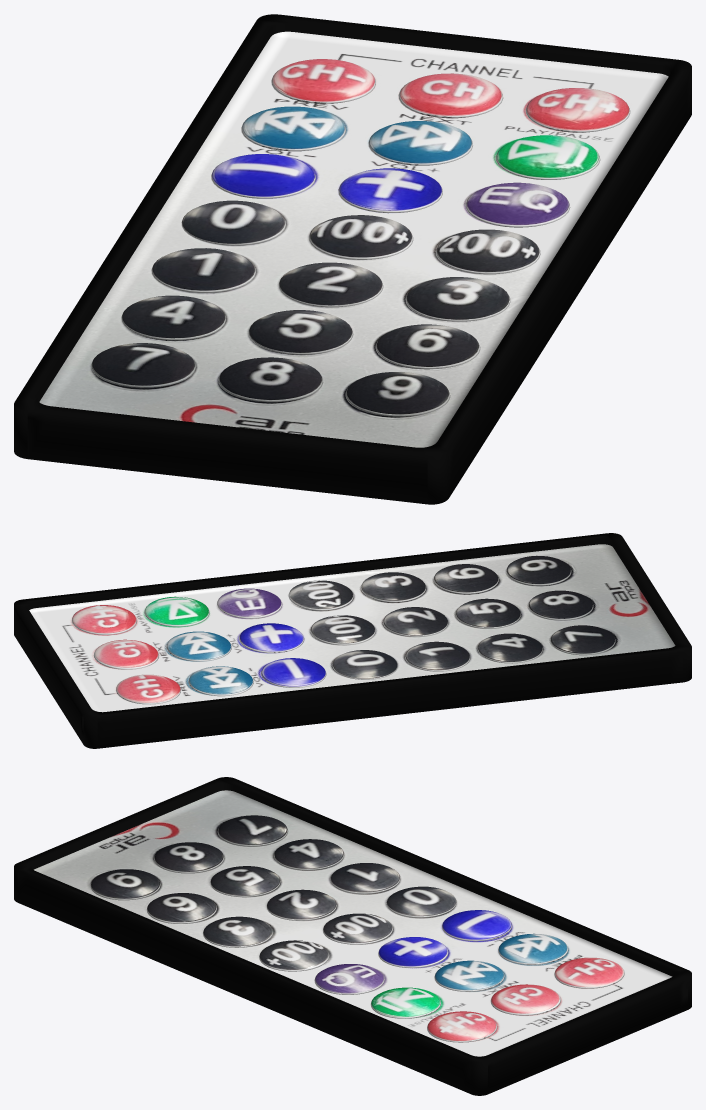
Rendered from 20. REMOTE.gltf.
3 renders of one model, top to bottom at view 1: azimuth 30°, elevation 25°; view 2: azimuth 150°, elevation 25°; view 3: azimuth 270°, elevation 25°, orthographic. The views are drawn at different scales.
Parts seen in each view (by area): view 1: remote.001; view 2: remote.001; view 3: remote.001.
Boxes of the visible parts, x1,y1,x2,y2 form: remote.001: [14, 14, 691, 504]; remote.001: [14, 533, 691, 748]; remote.001: [14, 777, 691, 1095].
Size of the model in its own units: 0.132 by 0.00715 by 0.132.
2 materials, 1 textured.
